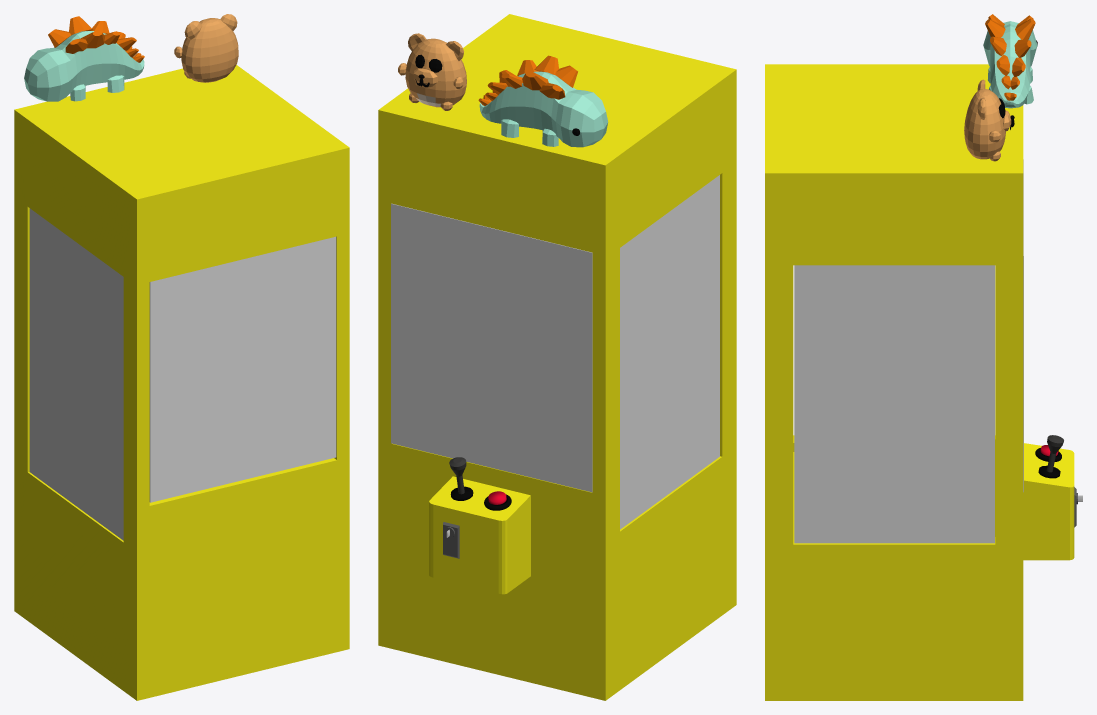
File: claw_machine.fbx
The picture shows the model from 3 angles, left to right: view 1: azimuth 30°, elevation 25°; view 2: azimuth 150°, elevation 25°; view 3: azimuth 270°, elevation 25°; orthographic projection. The views are drawn at different scales.
Visible parts, largest first — view 1: machine, plastic plane, plastic pane.001, body, Sphere.029, Cylinder.011, Cylinder.010; view 2: machine, plastic pane, plastic pane.001, Cube.003, body, Sphere.029, Cylinder.011, Cylinder.010, Coin Details; view 3: machine, Plastic pane, Cube.003, body, Sphere.029, Cylinder.011.
Boxes of the visible parts, left/top/right/bottom form: machine: left=14, top=65, right=349, bottom=700; plastic plane: left=149, top=236, right=336, bottom=502; plastic pane.001: left=29, top=208, right=123, bottom=540; body: left=24, top=31, right=144, bottom=101; Sphere.029: left=181, top=18, right=238, bottom=82; Cylinder.011: left=69, top=16, right=104, bottom=48; Cylinder.010: left=48, top=29, right=87, bottom=53; machine: left=378, top=14, right=736, bottom=700; plastic pane: left=391, top=203, right=592, bottom=492; plastic pane.001: left=620, top=175, right=719, bottom=529; Cube.003: left=429, top=476, right=530, bottom=594; body: left=479, top=71, right=608, bottom=147; Sphere.029: left=405, top=38, right=466, bottom=107; Cylinder.011: left=522, top=55, right=558, bottom=90; Cylinder.010: left=539, top=65, right=577, bottom=99; Coin Details: left=443, top=522, right=459, bottom=558; machine: left=765, top=64, right=1023, bottom=700; Plastic pane: left=794, top=265, right=994, bottom=543; Cube.003: left=1023, top=443, right=1074, bottom=560; body: left=983, top=21, right=1037, bottom=108; Sphere.029: left=964, top=89, right=1005, bottom=159; Cylinder.011: left=985, top=18, right=1035, bottom=39.
Size of the model in its own units: 214 by 553 by 263.
